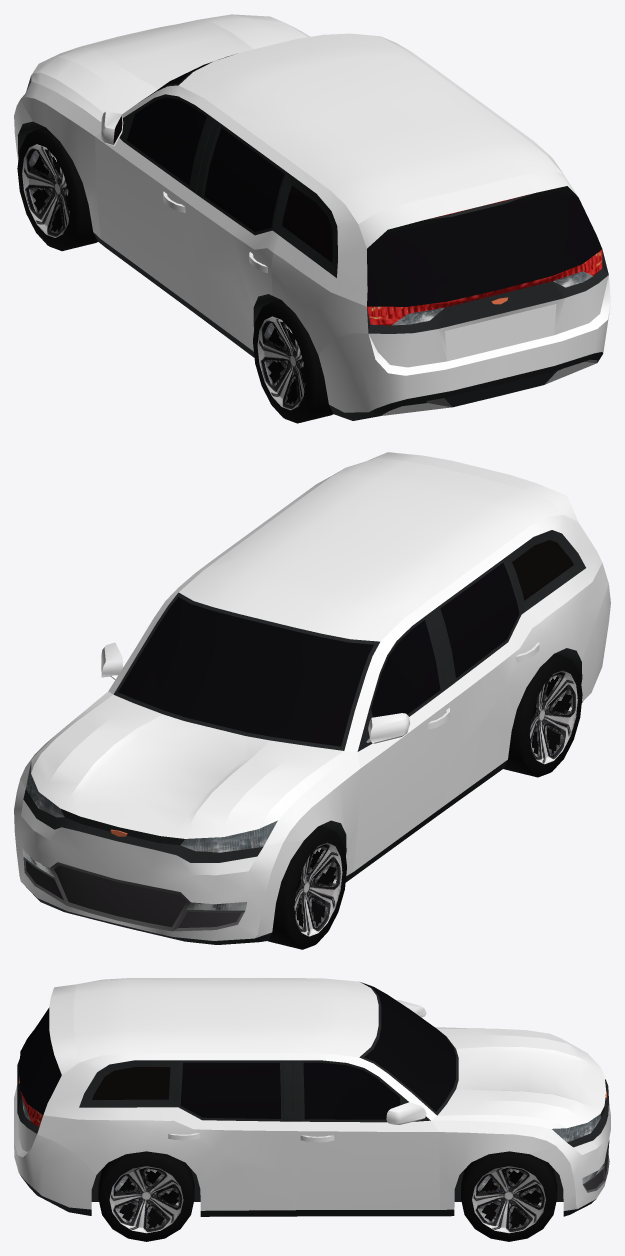
The model's file is aq-estate-suv.glb.
The picture shows the model from 3 angles, top to bottom: view 1: azimuth 30°, elevation 25°; view 2: azimuth 150°, elevation 25°; view 3: azimuth 270°, elevation 25°; orthographic projection. The views are drawn at different scales.
Parts seen in each view (by area): view 1: estate-suv-paint.003, estate-suv-windows.003, estate-suv-blackparts.003, estate-suv-tire.015, estate-suv-tire.012, estate-suv-rim.012, estate-suv-rim.013, estate-suv-taillights.003, estate-suv-silvertrim.002, estate-suv-headlights.003; view 2: estate-suv-paint.003, estate-suv-windows.003, estate-suv-blackparts.003, estate-suv-grills.003, estate-suv-tire.012, estate-suv-tire.015, estate-suv-rim.013, estate-suv-rim.012, estate-suv-headlights.004, estate-suv-silvertrim.002; view 3: estate-suv-paint.003, estate-suv-windows.003, estate-suv-blackparts.003, estate-suv-rim.015, estate-suv-rim.014, estate-suv-tire.014, estate-suv-tire.013, estate-suv-headlights.004.
Boxes of the visible parts, x1,y1,x2,y2 form: estate-suv-paint.003: [14, 14, 610, 412]; estate-suv-windows.003: [113, 56, 602, 306]; estate-suv-blackparts.003: [17, 62, 608, 420]; estate-suv-tire.015: [253, 299, 333, 423]; estate-suv-tire.012: [17, 127, 97, 251]; estate-suv-rim.012: [22, 144, 70, 237]; estate-suv-rim.013: [257, 316, 305, 410]; estate-suv-taillights.003: [367, 194, 602, 325]; estate-suv-silvertrim.002: [381, 359, 597, 415]; estate-suv-headlights.003: [392, 271, 593, 325]; estate-suv-paint.003: [14, 452, 610, 940]; estate-suv-windows.003: [118, 540, 573, 746]; estate-suv-blackparts.003: [23, 530, 585, 944]; estate-suv-grills.003: [26, 861, 240, 927]; estate-suv-tire.012: [268, 826, 346, 949]; estate-suv-tire.015: [503, 653, 582, 777]; estate-suv-rim.013: [530, 670, 577, 764]; estate-suv-rim.012: [294, 842, 342, 936]; estate-suv-headlights.004: [22, 762, 277, 910]; estate-suv-silvertrim.002: [23, 857, 244, 931]; estate-suv-paint.003: [14, 978, 610, 1210]; estate-suv-windows.003: [19, 984, 455, 1119]; estate-suv-blackparts.003: [17, 982, 608, 1216]; estate-suv-rim.015: [109, 1166, 183, 1233]; estate-suv-rim.014: [472, 1166, 545, 1233]; estate-suv-tire.014: [98, 1151, 194, 1241]; estate-suv-tire.013: [461, 1151, 557, 1241]; estate-suv-headlights.004: [552, 1114, 604, 1184].
Size of the model in its own units: 2.2 by 1.65 by 4.84.
8 materials, 5 textured.
